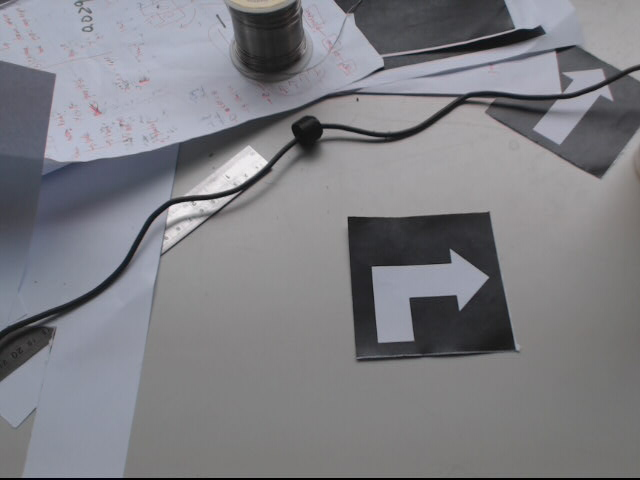right: (347, 212, 520, 358)
